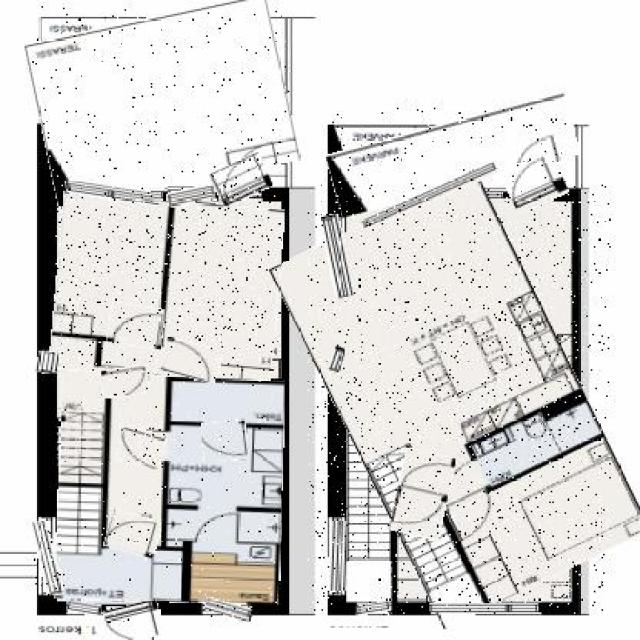door: (392, 451, 452, 537), (505, 154, 566, 209), (212, 158, 270, 204), (108, 303, 164, 348), (160, 340, 220, 380), (106, 512, 160, 556), (104, 601, 161, 640), (200, 420, 248, 462), (117, 428, 166, 466), (100, 366, 149, 397)
window: (360, 177, 498, 215), (324, 215, 350, 298), (34, 520, 60, 595), (65, 185, 160, 203), (329, 520, 346, 591), (430, 603, 544, 612), (168, 188, 215, 206), (205, 600, 252, 618), (69, 602, 103, 616), (37, 351, 57, 374), (356, 603, 390, 615), (329, 348, 343, 372)
zone: (308, 184, 610, 614), (57, 377, 283, 605), (32, 5, 294, 197), (54, 196, 281, 382), (328, 108, 578, 202)
